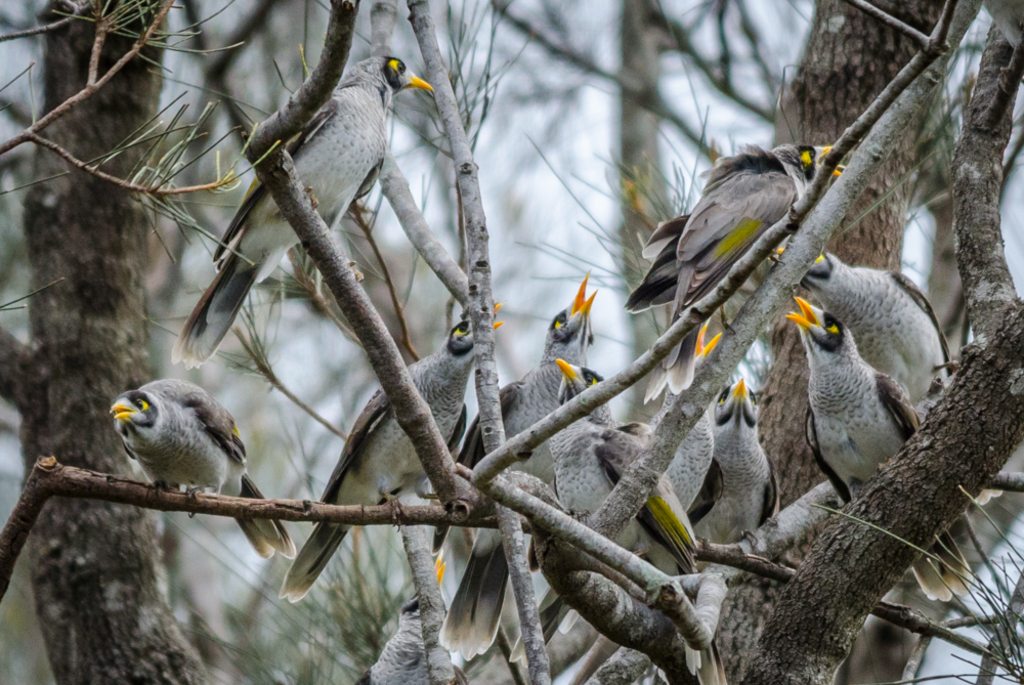Tree: (0, 0, 1022, 683)
